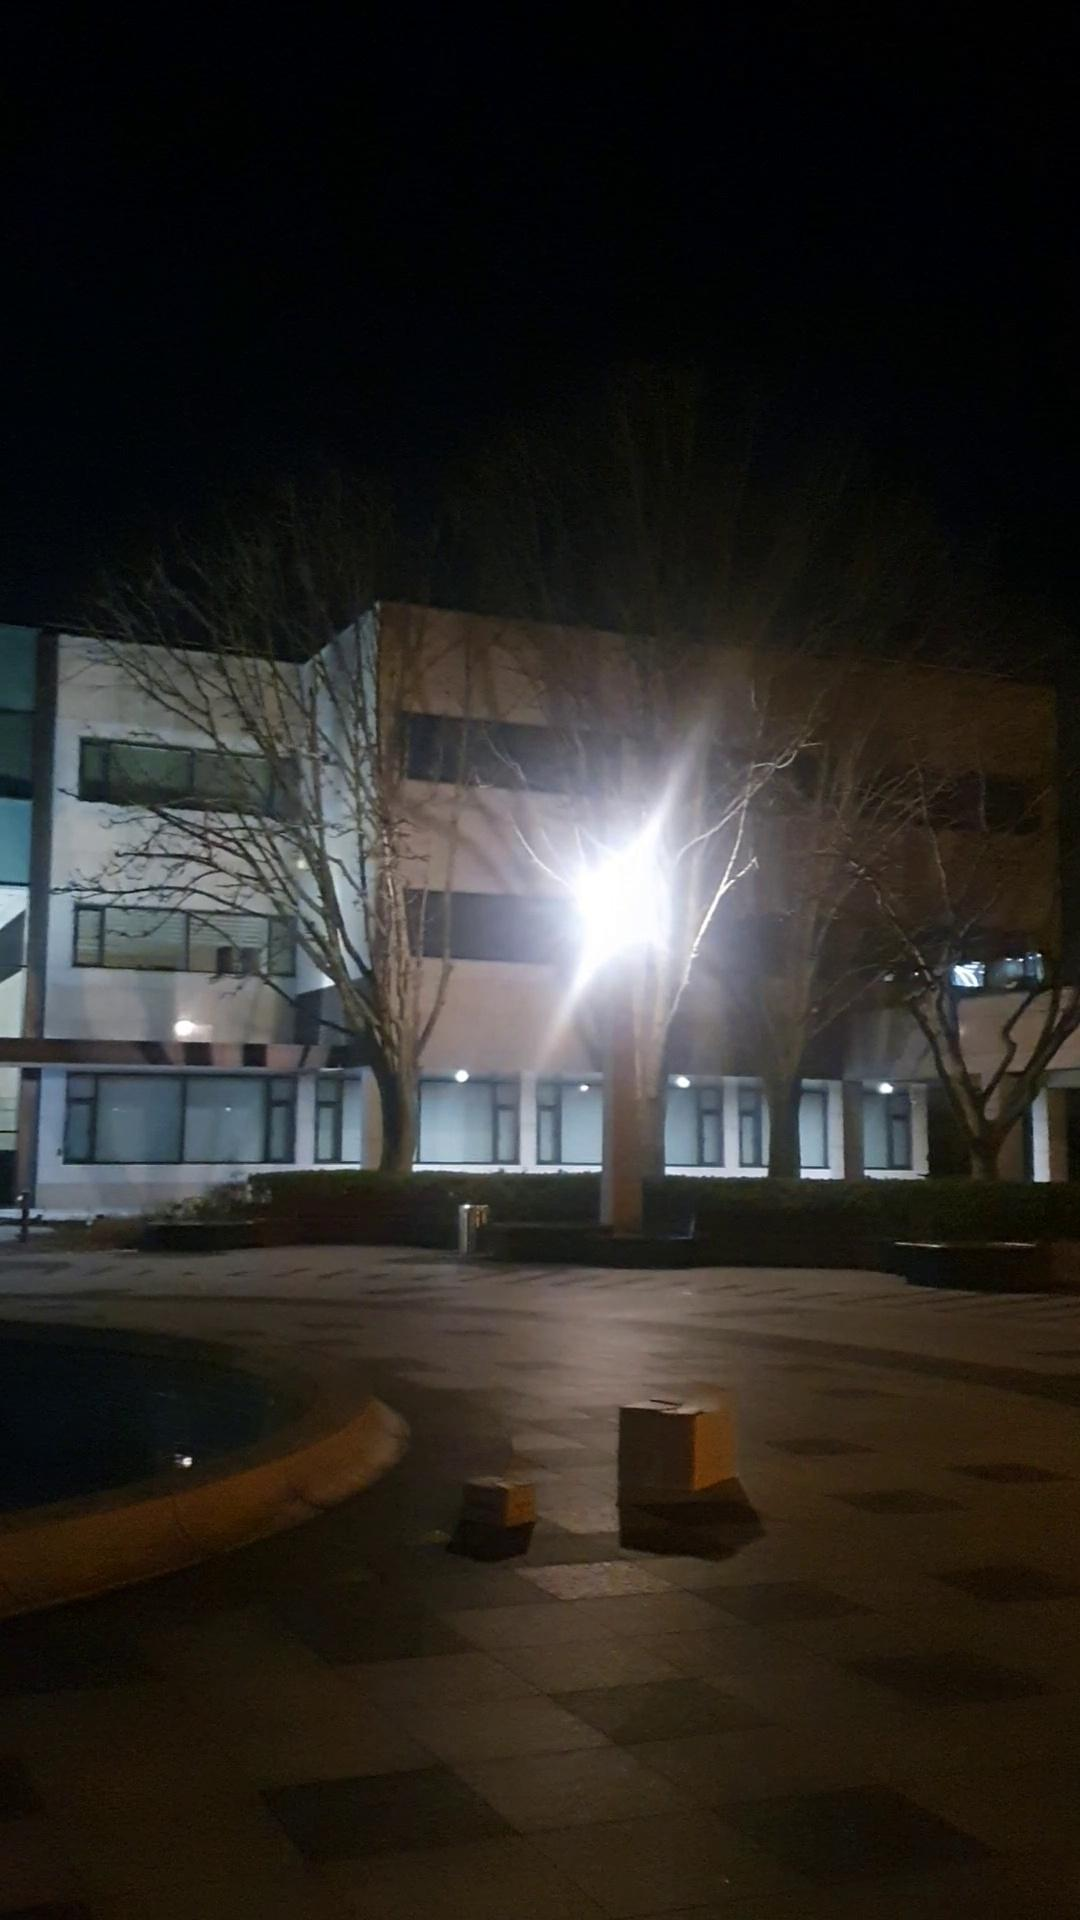Box: (611, 1375, 732, 1515), (443, 1462, 542, 1540)
